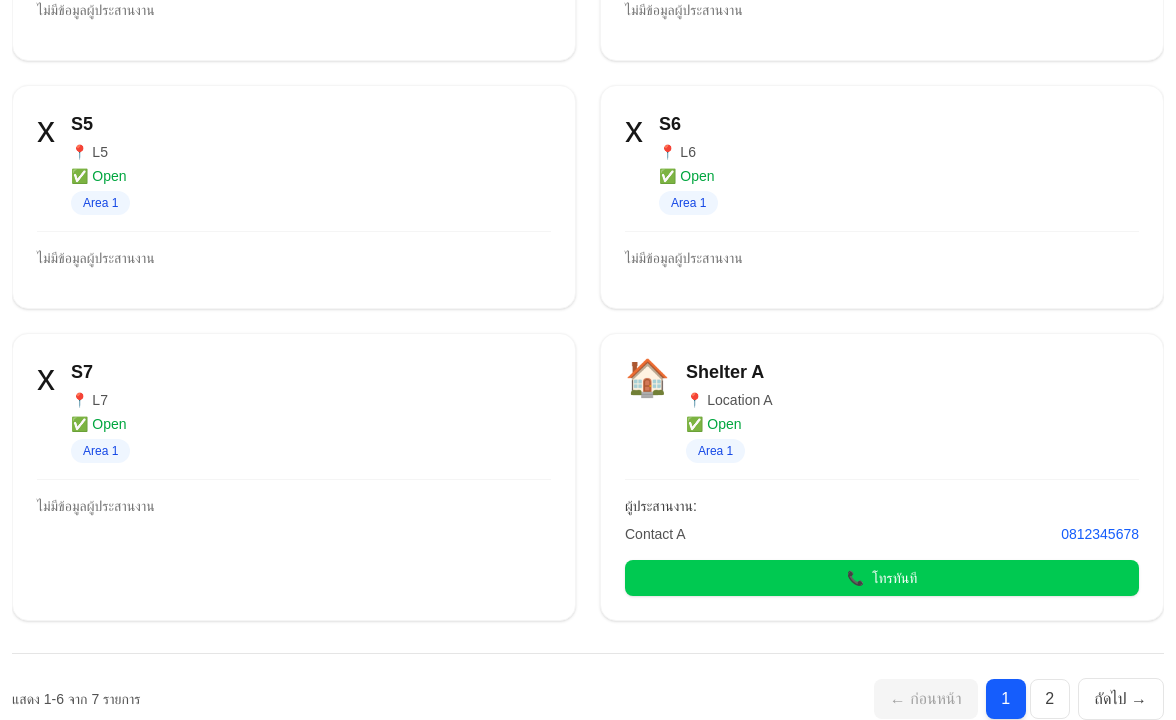
Test: SheltersSection › handles pagination
The width and height of the screenshot is (1176, 720).
(page scrolled)
Expected: the heading "Shelter A" is shown, [686, 362, 764, 382]
Expected: the heading "S7" is shown, [71, 362, 93, 382]
Click the button "ถัดไป →": (1121, 699) [1078, 678, 1164, 719]
(page scrolled)
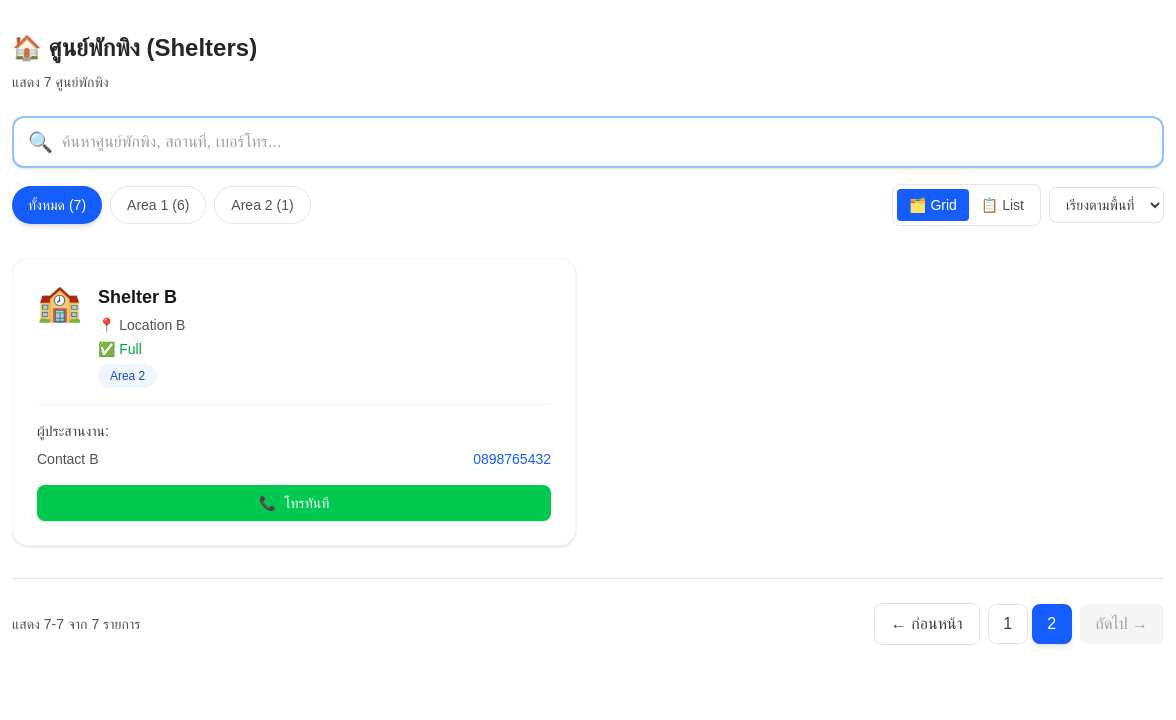
Expected: the heading "Shelter B" is shown, [98, 287, 177, 307]
Expected: the heading "Shelter A" is gone
